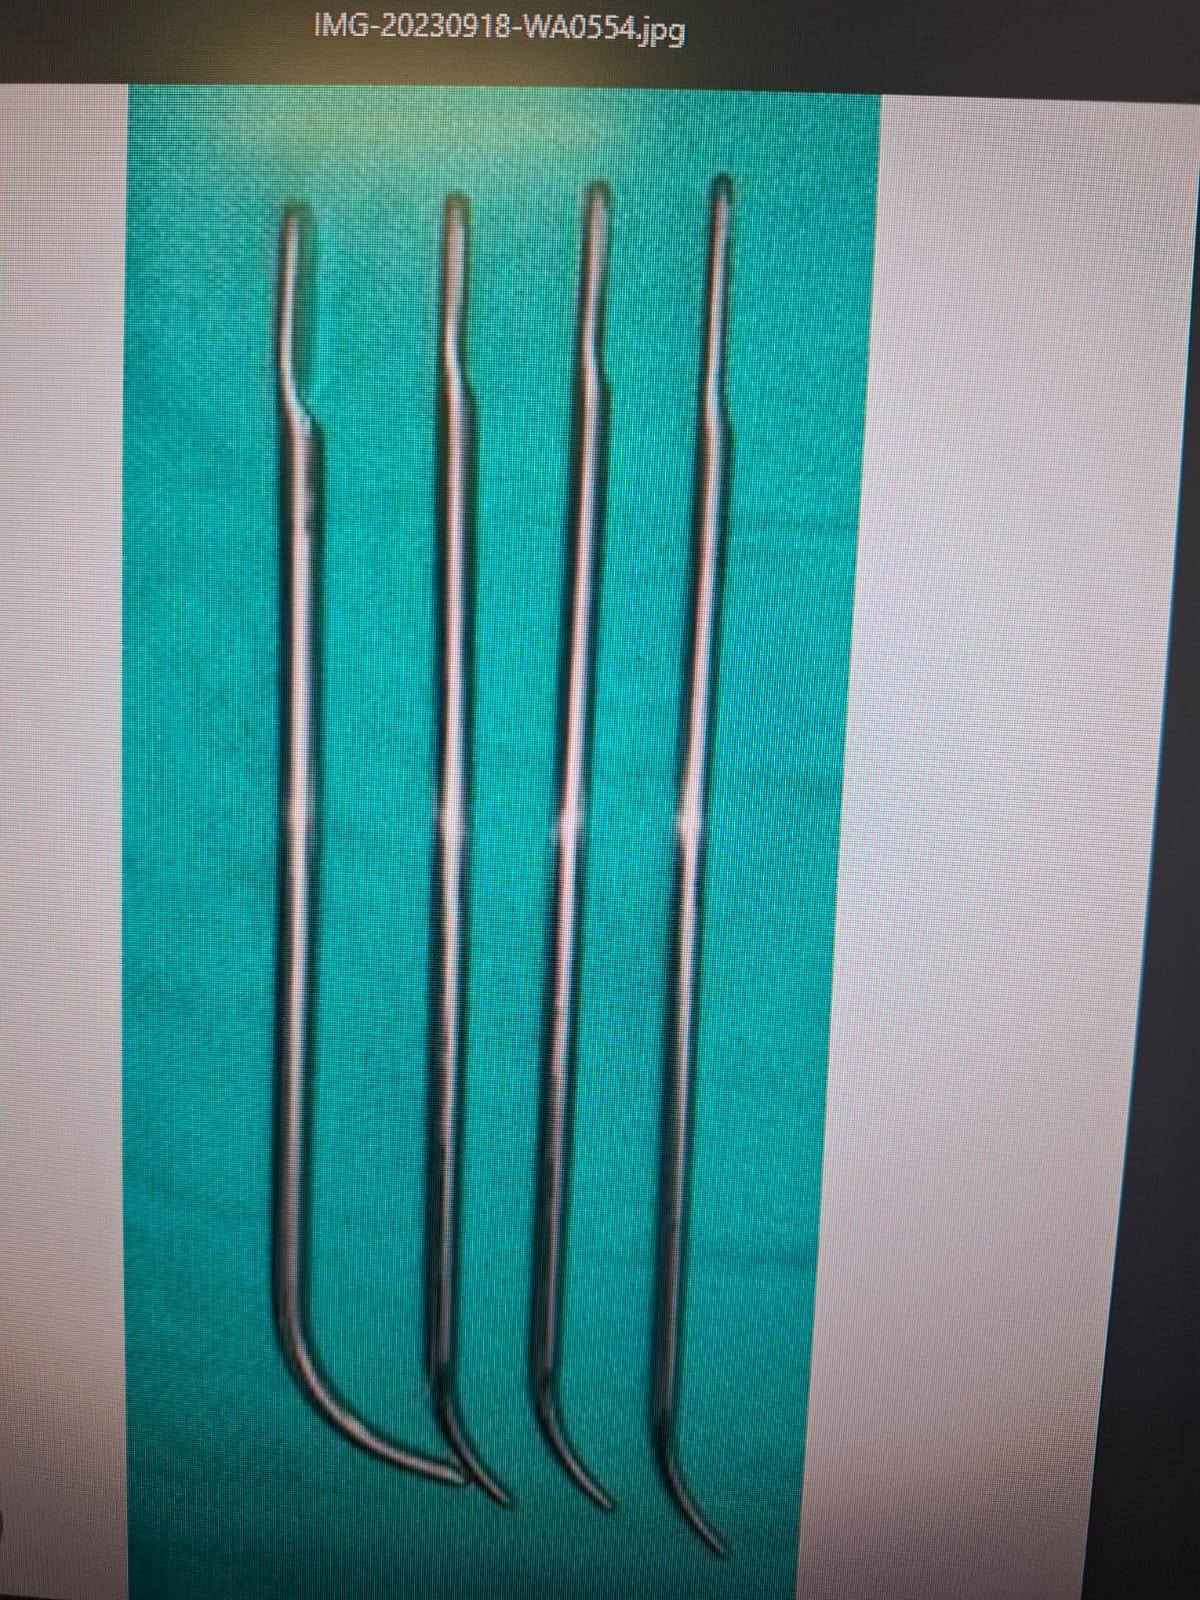Urethral Dilators: (205, 188, 505, 1511), (628, 163, 800, 1565), (508, 145, 650, 1534)
